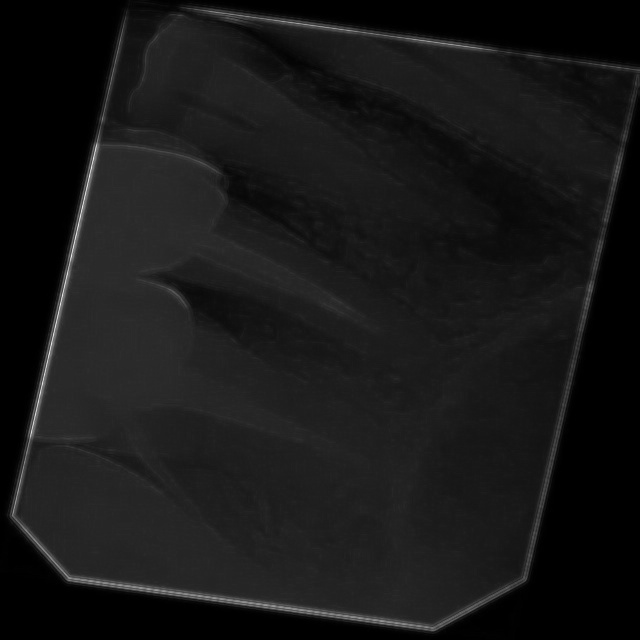Class 0- No endodontic treatment: (9, 287, 431, 584)
Class 1- complete endodontic treatment: (52, 110, 549, 397)
